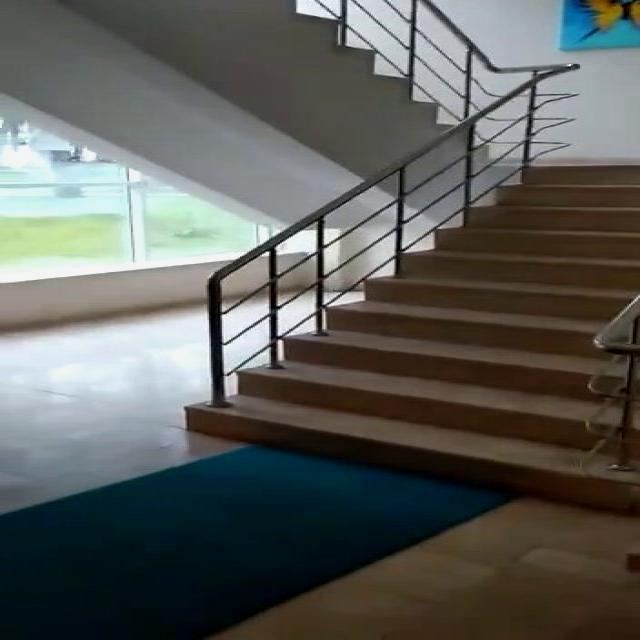stair: (146, 134, 640, 518)
